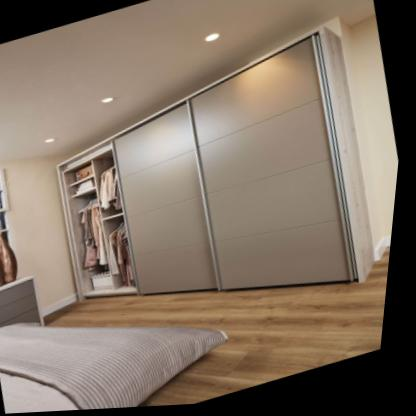Bed: (0, 324, 236, 414)
Closet: (58, 22, 380, 304)
Wooden floor: (53, 251, 396, 409)
